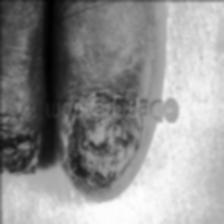Unclassified: (66, 119, 138, 191), (60, 62, 135, 94), (0, 126, 34, 178)
